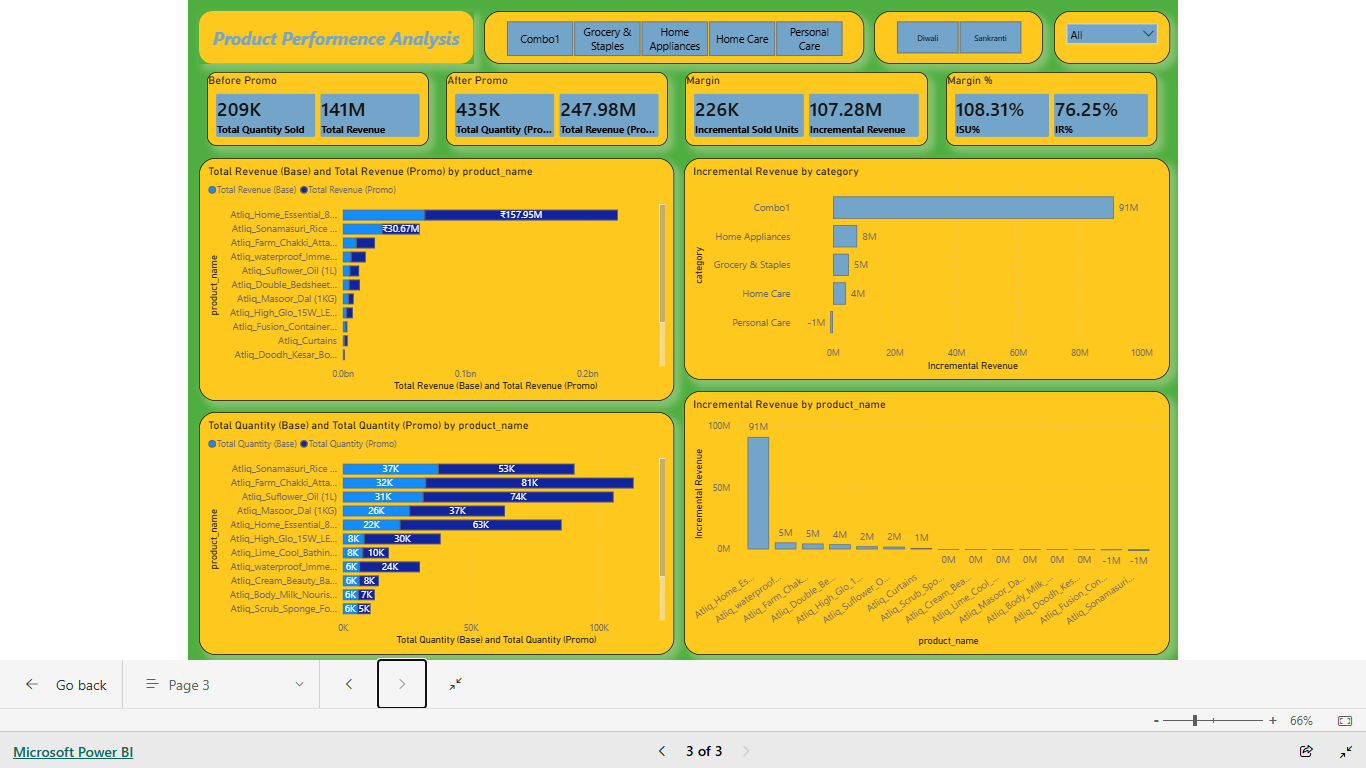

This screenshot's page, from the dashboard's own definition file:
{"tool":"powerbi","page":{"name":"Page 3","canvas":[1500,1000],"ordinal":2},"visuals":[{"type":"clusteredBarChart","fields":{"Category":["dim_products.category"],"Y":["New_measures.Incremental Revenue"]},"box":[752,240,736,336],"z":1000},{"type":"barChart","fields":{"Category":["dim_products.product_name"],"Y":["New_measures.Total Revenue (Base)","New_measures.Total Revenue (Promo)"]},"box":[16,240,720,368],"z":1001},{"type":"barChart","fields":{"Category":["dim_products.product_name"],"Y":["New_measures.Total Quantity (Base)","New_measures.Total Quantity (Promo)"]},"box":[16,624,720,368],"z":1002},{"type":"clusteredColumnChart","fields":{"Category":["dim_products.product_name"],"Y":["New_measures.Incremental Revenue"]},"box":[752,592,736,400],"z":1003},{"type":"cardVisual","title":"Before Promo","fields":{"Data":["New_measures.Total Quantity (Base)","New_measures.Total Revenue (Base)"]},"box":[28.3,108.3,336,112],"z":1004},{"type":"shape","box":[16,16,416,80],"z":1005},{"type":"slicer","fields":{"Values":["dim_products.category"]},"box":[448,16,576,80],"z":1006},{"type":"slicer","fields":{"Values":["dim_stores.city"]},"box":[1312,16,176,80],"z":1007},{"type":"slicer","fields":{"Values":["dim_campaigns.campaign_name"]},"box":[1040,16,256,80],"z":1008},{"type":"cardVisual","title":"After Promo","fields":{"Data":["New_measures.Total Quantity (Promo)","New_measures.Total Revenue (Promo)"]},"box":[391,108.3,336,112],"z":1009},{"type":"cardVisual","title":"Margin","fields":{"Data":["New_measures.Incremental Sold Units","New_measures.Incremental Revenue"]},"box":[753.7,108.3,368,112],"z":1010},{"type":"cardVisual","title":"Margin %","fields":{"Data":["New_measures.ISU%","New_measures.IR%"]},"box":[1148.3,108.3,320,112],"z":1011}]}

Visuals, with their boxes on the page's 1500x1000 design canvas (x1, y1, x2, y2). These are canvas units, not pixel positions in the 1366x768 screenshot, which may show the page scaled, cropped or inside an application window:
clusteredBarChart - dim_products.category x New_measures.Incremental Revenue: {"x1": 752, "y1": 240, "x2": 1488, "y2": 576}
barChart - dim_products.product_name x New_measures.Total Revenue (Base): {"x1": 16, "y1": 240, "x2": 736, "y2": 608}
barChart - dim_products.product_name x New_measures.Total Quantity (Base): {"x1": 16, "y1": 624, "x2": 736, "y2": 992}
clusteredColumnChart - dim_products.product_name x New_measures.Incremental Revenue: {"x1": 752, "y1": 592, "x2": 1488, "y2": 992}
"Before Promo" cardVisual: {"x1": 28, "y1": 108, "x2": 364, "y2": 220}
shape: {"x1": 16, "y1": 16, "x2": 432, "y2": 96}
slicer - dim_products.category: {"x1": 448, "y1": 16, "x2": 1024, "y2": 96}
slicer - dim_stores.city: {"x1": 1312, "y1": 16, "x2": 1488, "y2": 96}
slicer - dim_campaigns.campaign_name: {"x1": 1040, "y1": 16, "x2": 1296, "y2": 96}
"After Promo" cardVisual: {"x1": 391, "y1": 108, "x2": 727, "y2": 220}
"Margin" cardVisual: {"x1": 754, "y1": 108, "x2": 1122, "y2": 220}
"Margin %" cardVisual: {"x1": 1148, "y1": 108, "x2": 1468, "y2": 220}
